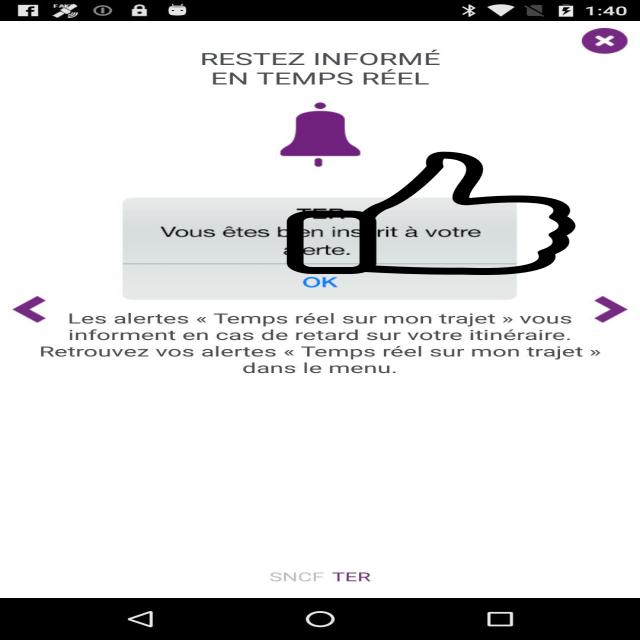privacy zuckering: (282, 152, 580, 275)
